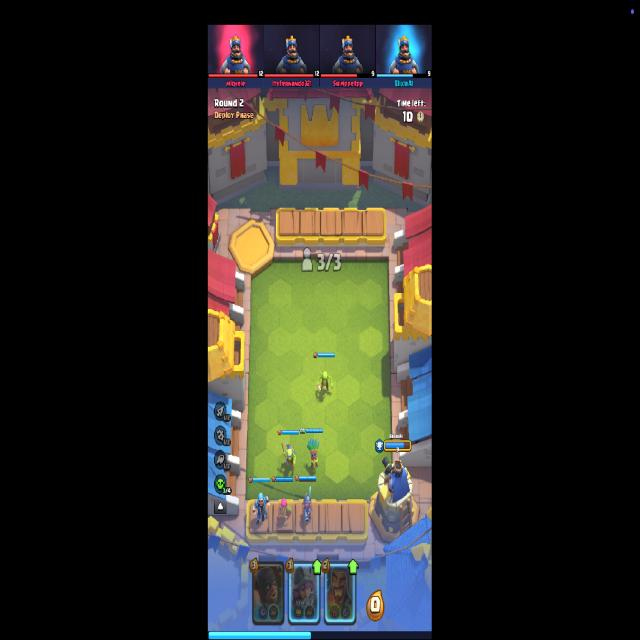archer: (278, 499, 292, 522)
card_executioner: (251, 560, 285, 626)
card_musketeer: (287, 560, 321, 626)
card_wizard: (324, 560, 357, 626)
dart_goblin: (306, 438, 320, 470)
goblin: (316, 372, 334, 394)
musketeer: (302, 487, 313, 521)
spear_goblin: (281, 441, 296, 468)
wizard: (252, 494, 270, 523)
